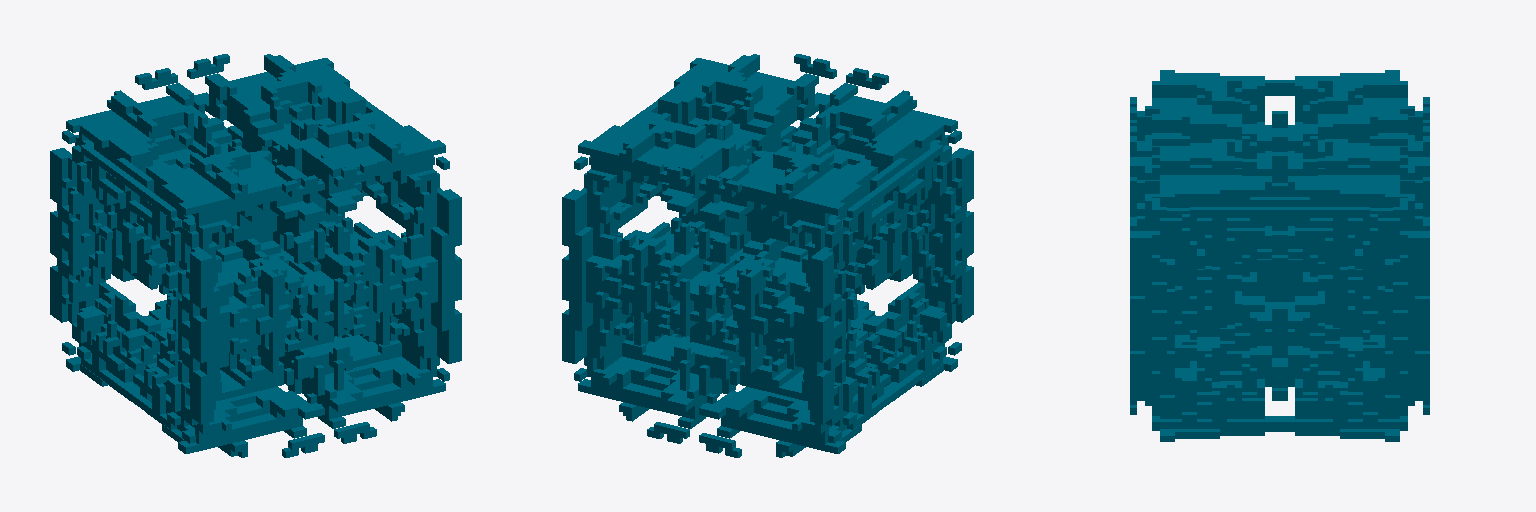
The picture shows the model from 3 angles: view 1: azimuth 30°, elevation 25°; view 2: azimuth 150°, elevation 25°; view 3: azimuth 270°, elevation 25°; orthographic projection.
Parts seen in each view (by area): view 1: 蓝色玻璃; view 2: 蓝色玻璃; view 3: 蓝色玻璃.
Boxes of the visible parts, x1,y1,x2,y2 form: 蓝色玻璃: [50, 54, 461, 457]; 蓝色玻璃: [562, 54, 973, 457]; 蓝色玻璃: [1130, 70, 1429, 441].
Size of the model in its own units: 40 by 40 by 40.
Materials: 1 (1 with a texture image).